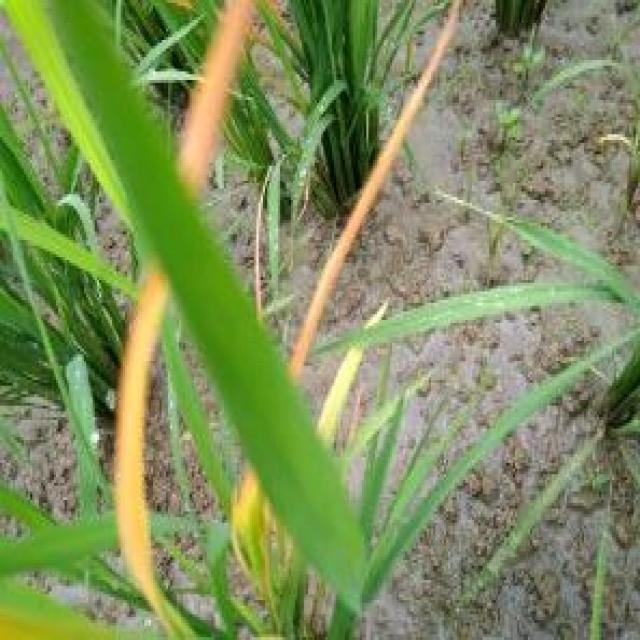Tungro: (286, 0, 468, 381), (100, 271, 203, 640), (167, 1, 264, 184)
